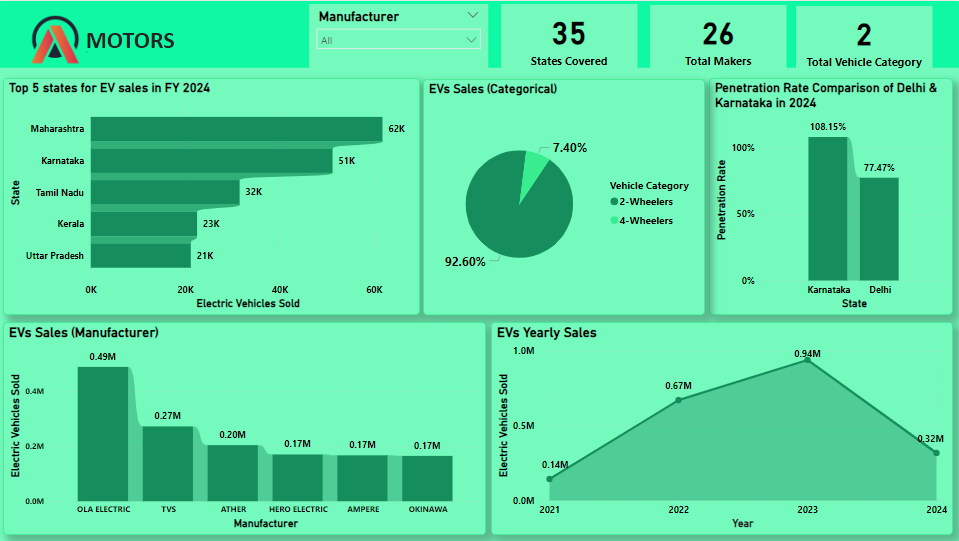

This screenshot's page, from the dashboard's own definition file:
{"tool":"powerbi","page":{"name":"Page 1","canvas":[1280,720],"ordinal":0},"visuals":[{"type":"textbox","box":[0,0,1280,88.6],"z":0},{"type":"image","box":[16.5,0,110.1,103.2],"z":1000},{"type":"textbox","box":[101.8,27.5,147.3,55.1],"z":2000},{"type":"barChart","title":"Top 5 states for EV sales in FY 2024","fields":{"Category":["electric_vehicle_sales_by_state.state"],"Y":["Sum(electric_vehicle_sales_by_state.electric_vehicles_sold)"]},"box":[5.3,102.7,556,316],"z":3000},{"type":"card","fields":{"Values":["Count(electric_vehicle_sales_by_state.state)"]},"box":[668.9,4.1,181.7,88.1],"z":4000},{"type":"columnChart","title":"Penetration Rate Comparison of Delhi & Karnataka in 2024","fields":{"Category":["electric_vehicle_sales_by_state.state"],"Y":["Divide(electric_vehicle_sales_by_state.Penetration_Rate, ScopedEval(electric_vehicle_sales_by_state.Penetration_Rate, []"]},"box":[946.7,102.7,325.3,316],"z":5000},{"type":"pieChart","title":"EVs Sales (Categorical)","fields":{"Category":["electric_vehicle_sales_by_state.vehicle_category"],"Y":["Sum(electric_vehicle_sales_by_state.electric_vehicles_sold)"]},"box":[565.3,104,376,314.7],"z":6000},{"type":"card","fields":{"Values":["Count(electric_vehicle_sales_by_maker.maker)"]},"box":[868.5,5.5,181.7,88.1],"z":7000},{"type":"card","fields":{"Values":["Count(electric_vehicle_sales_by_maker.vehicle_category)"]},"box":[1062.5,6.9,181.7,88.1],"z":8000},{"type":"slicer","fields":{"Values":["electric_vehicle_sales_by_maker.maker"]},"box":[412.9,4.1,239.5,90.8],"z":9000},{"type":"columnChart","title":"EVs Sales (Manufacturer) ","fields":{"Category":["electric_vehicle_sales_by_maker.maker"],"Y":["Sum(electric_vehicle_sales_by_maker.electric_vehicles_sold)"]},"box":[5.3,428,644,284],"z":10000},{"type":"areaChart","title":"EVs Yearly Sales","fields":{"Category":["electric_vehicle_sales_by_maker.date.Variation.Date Hierarchy.Year"],"Y":["Sum(electric_vehicle_sales_by_maker.electric_vehicles_sold)"]},"box":[656,428,616,284],"z":11000}]}

Visuals, with their boxes in screenshot pixels (x1, y1, x2, y2), scaled from the page's 1280x720 canvas onto the 959x541 screenshot:
textbox: locate(0, 0, 958, 67)
image: locate(12, 0, 95, 78)
textbox: locate(76, 21, 187, 62)
"Top 5 states for EV sales in FY 2024" barChart: locate(4, 77, 421, 315)
card - Count(electric_vehicle_sales_by_state.state): locate(501, 3, 637, 69)
"Penetration Rate Comparison of Delhi & Karnataka in 2024" columnChart: locate(709, 77, 953, 315)
"EVs Sales (Categorical)" pieChart: locate(424, 78, 705, 315)
card - Count(electric_vehicle_sales_by_maker.maker): locate(651, 4, 787, 70)
card - Count(electric_vehicle_sales_by_maker.vehicle_category): locate(796, 5, 932, 71)
slicer - electric_vehicle_sales_by_maker.maker: locate(309, 3, 489, 71)
"EVs Sales (Manufacturer) " columnChart: locate(4, 322, 486, 535)
"EVs Yearly Sales" areaChart: locate(491, 322, 953, 535)
